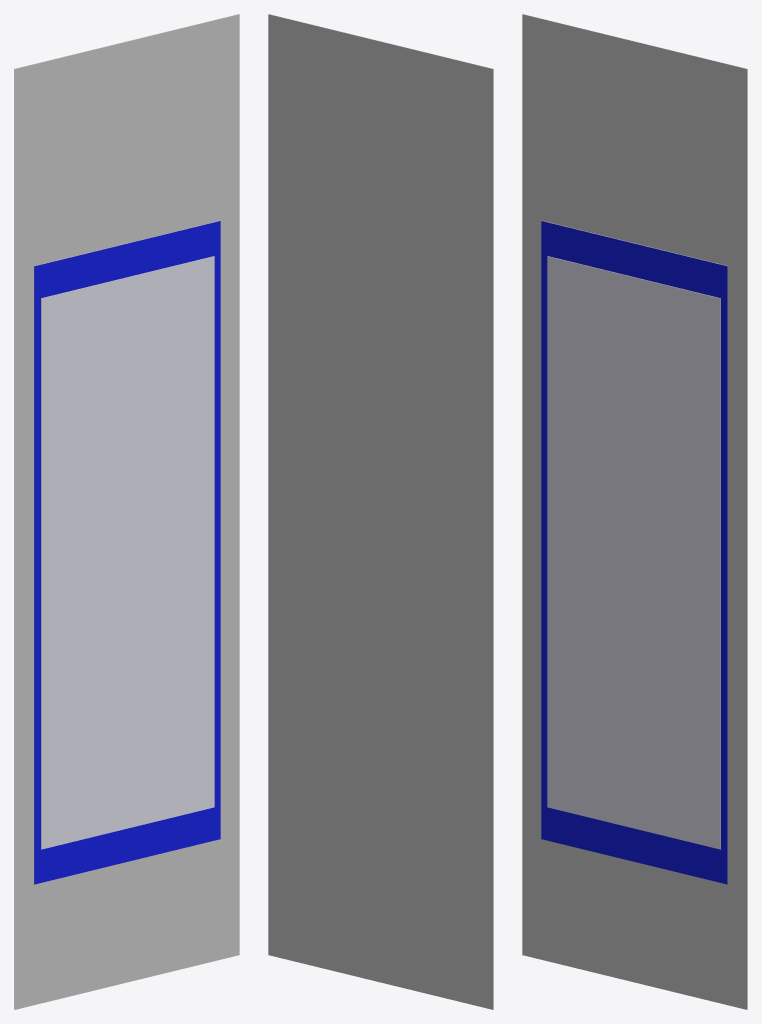
The model's file is 掛け軸.obj.
The picture shows the model from 3 angles, left to right: view 1: azimuth 30°, elevation 25°; view 2: azimuth 150°, elevation 25°; view 3: azimuth 330°, elevation 25°; orthographic projection.
Visible parts, largest first — view 1: ソリッド1; view 2: ソリッド1; view 3: ソリッド1.
Part boxes in pixels (bbox=[...]): ソリッド1: bbox=[14, 14, 239, 1009]; ソリッド1: bbox=[268, 14, 493, 1009]; ソリッド1: bbox=[522, 14, 747, 1009].
Size of the model in its own units: 350 by 1400 by 3.
